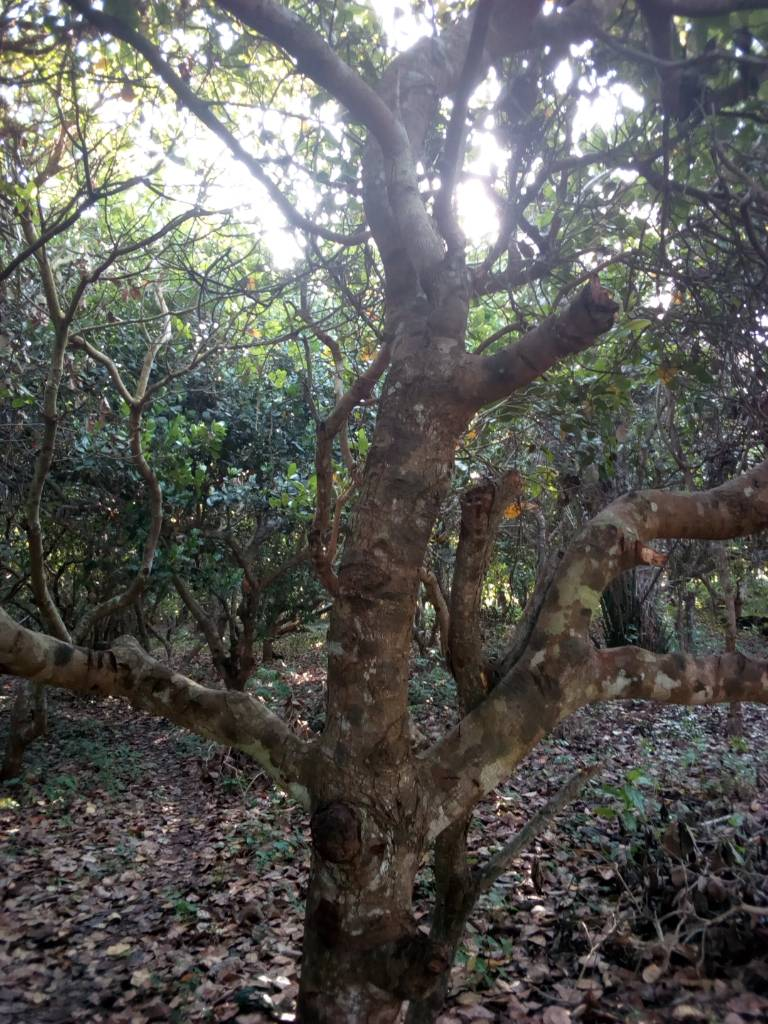Analepse trifasciata: (565, 266, 635, 363)
